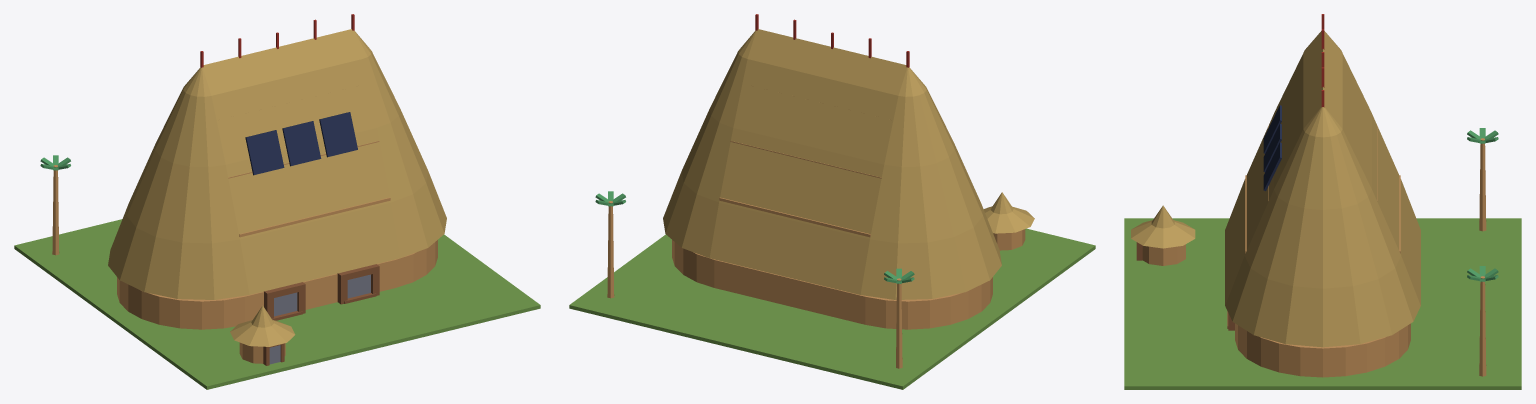
File: house-2x2-3f-maloca-a-solar.glb
3 renders of one model, left to right at view 1: azimuth 30°, elevation 25°; view 2: azimuth 150°, elevation 25°; view 3: azimuth 270°, elevation 25°, orthographic. The views are drawn at different scales.
Parts seen in each view (by area): view 1: house-2x2-3f-maloca-a-solar; view 2: house-2x2-3f-maloca-a-solar; view 3: house-2x2-3f-maloca-a-solar.
Boxes of the visible parts, left/top/right/bottom form: house-2x2-3f-maloca-a-solar: left=14, top=14, right=540, bottom=389; house-2x2-3f-maloca-a-solar: left=569, top=14, right=1095, bottom=389; house-2x2-3f-maloca-a-solar: left=1124, top=14, right=1521, bottom=389.
Size of the model in its own units: 1.99 by 1.42 by 1.99.
Materials: 1 (1 with a texture image).
